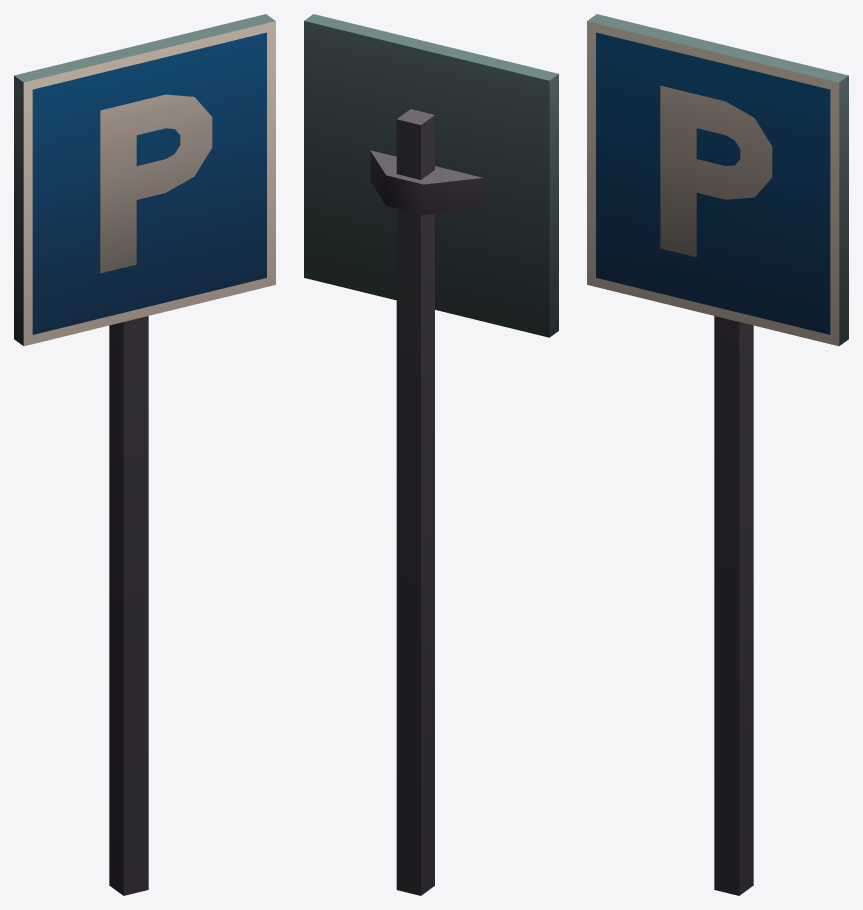
File: Streetsign_2G.fbx
3 renders of one model, left to right at view 1: azimuth 30°, elevation 25°; view 2: azimuth 150°, elevation 25°; view 3: azimuth 330°, elevation 25°, orthographic. The views are drawn at different scales.
Visible parts, largest first — view 1: Streetsign_2G; view 2: Streetsign_2G; view 3: Streetsign_2G.
Boxes of the visible parts, bbox=[...] form: Streetsign_2G: bbox=[14, 14, 275, 895]; Streetsign_2G: bbox=[304, 14, 558, 895]; Streetsign_2G: bbox=[587, 14, 848, 895].
Size of the model in its own units: 90 by 290 by 20.83.
